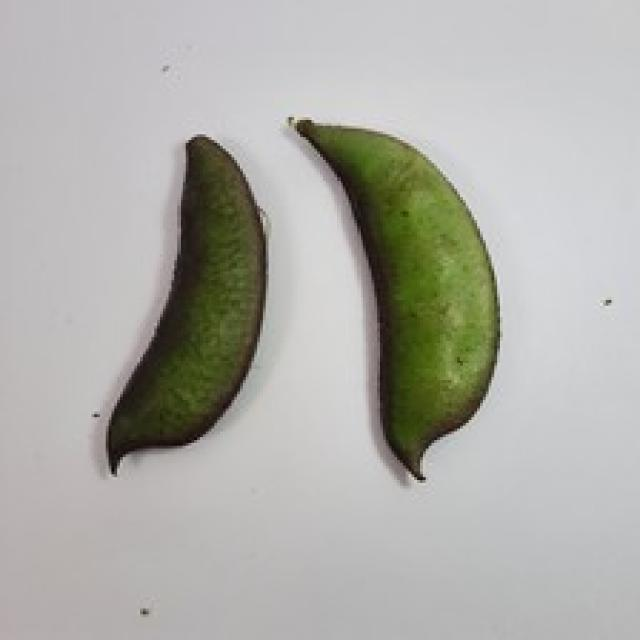Bean: (286, 111, 500, 480), (103, 132, 266, 474)
